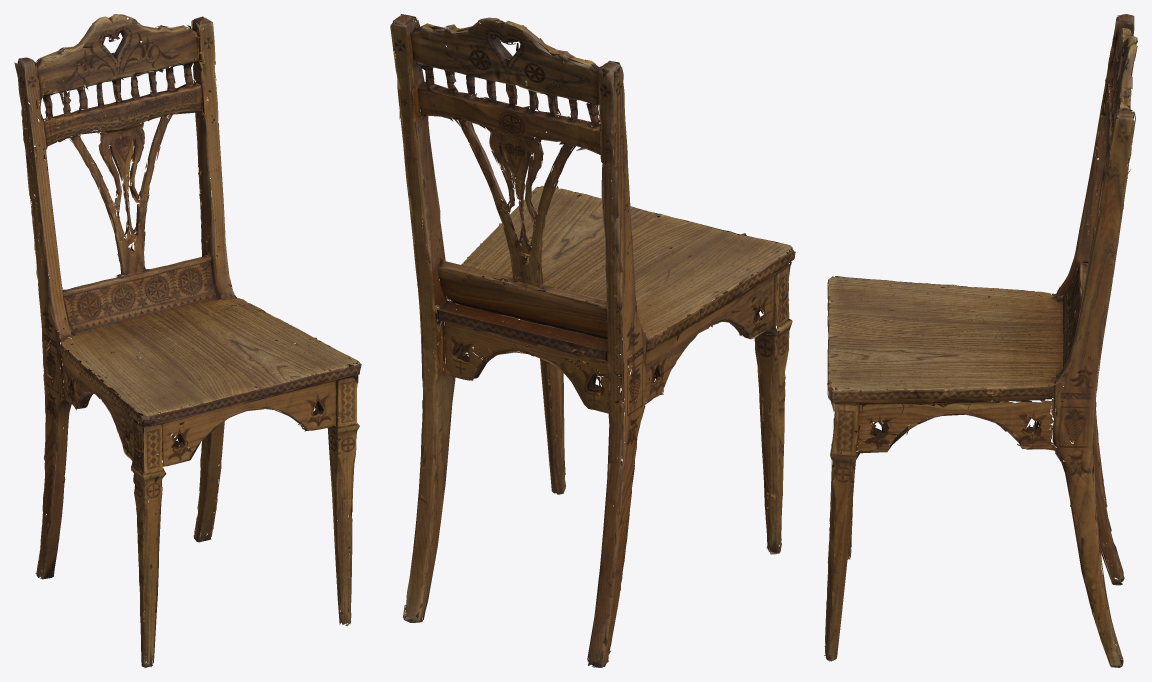
The model's file is chair_zakopane.glb.
3 renders of one model, left to right at view 1: azimuth 30°, elevation 25°; view 2: azimuth 150°, elevation 25°; view 3: azimuth 270°, elevation 25°, orthographic. The views are drawn at different scales.
Visible parts, largest first — view 1: Object_3, Object_4; view 2: Object_3, Object_4; view 3: Object_3, Object_4.
Part boxes in pixels (x1,y1,x2,y2): Object_3: [17, 14, 359, 667]; Object_4: [14, 18, 361, 666]; Object_3: [393, 14, 795, 667]; Object_4: [390, 15, 795, 666]; Object_3: [825, 14, 1137, 667]; Object_4: [824, 15, 1135, 665].
Bounding box in the file's own units: 392 × 918 × 450.
1 material, 1 textured.
